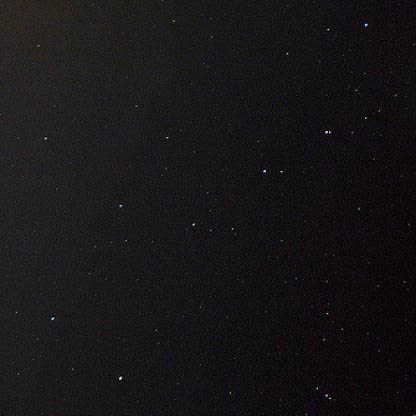Ursa Major: (252, 159, 276, 190), (355, 15, 384, 37), (111, 192, 129, 219), (320, 116, 338, 141), (39, 308, 60, 328), (109, 368, 129, 386), (186, 215, 203, 235)
